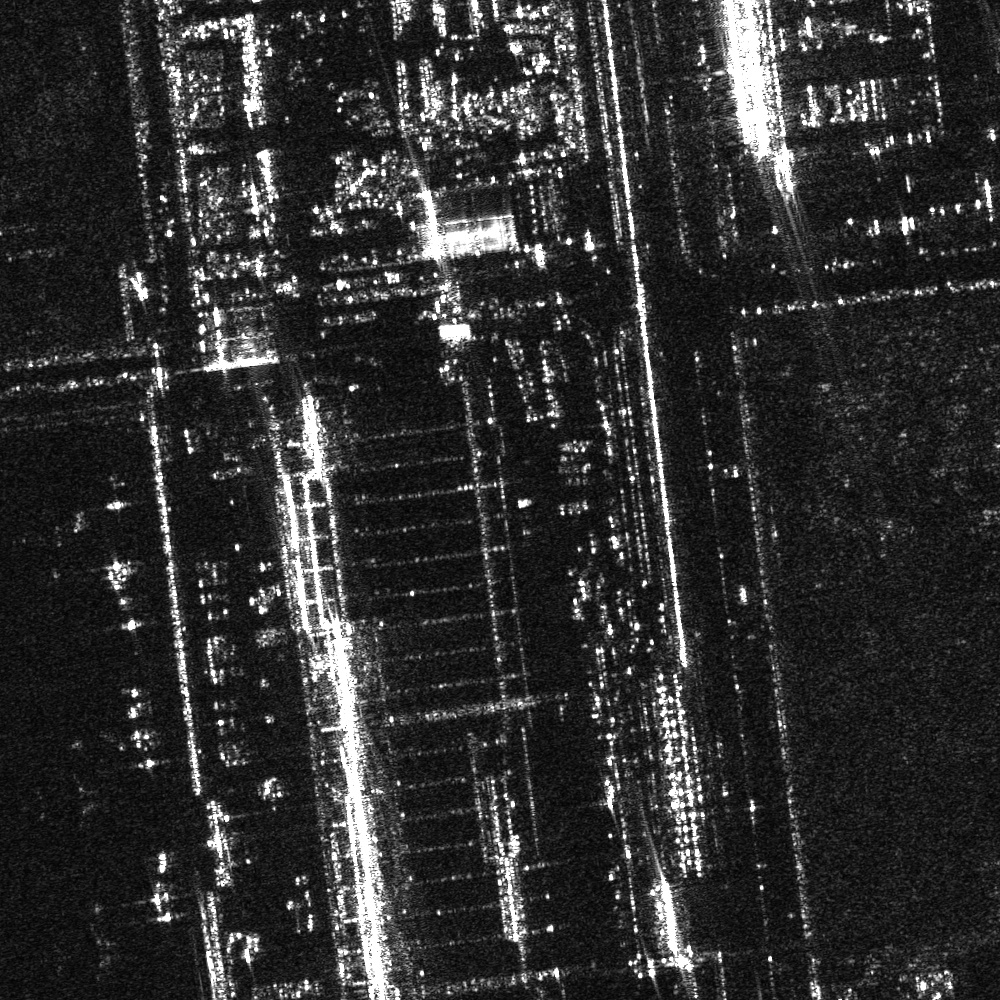Boeing787: (52, 910, 136, 982)
